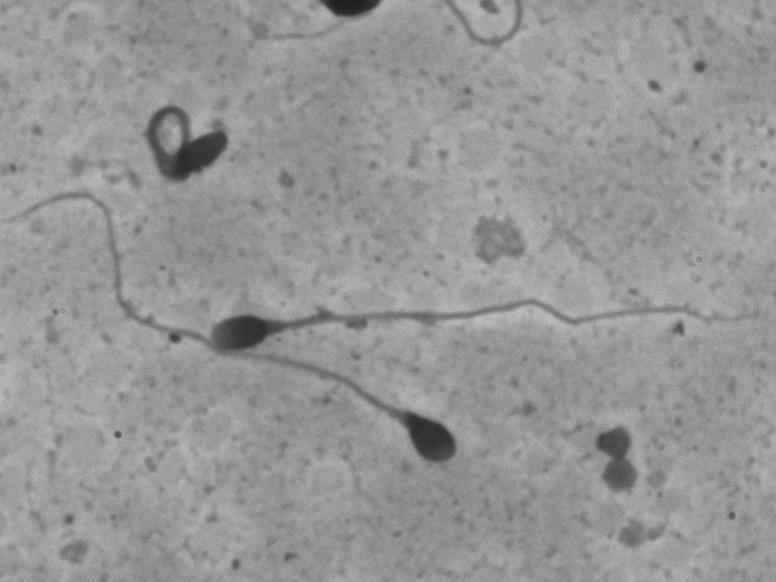Abnormal: (300, 373, 480, 528)
Normal: (187, 278, 753, 350)
